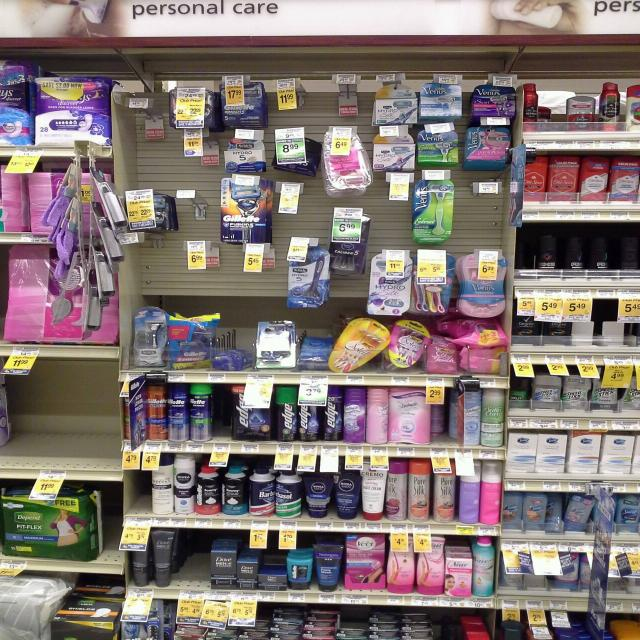void: (8, 362, 46, 488), (50, 360, 82, 484), (87, 361, 118, 485)
